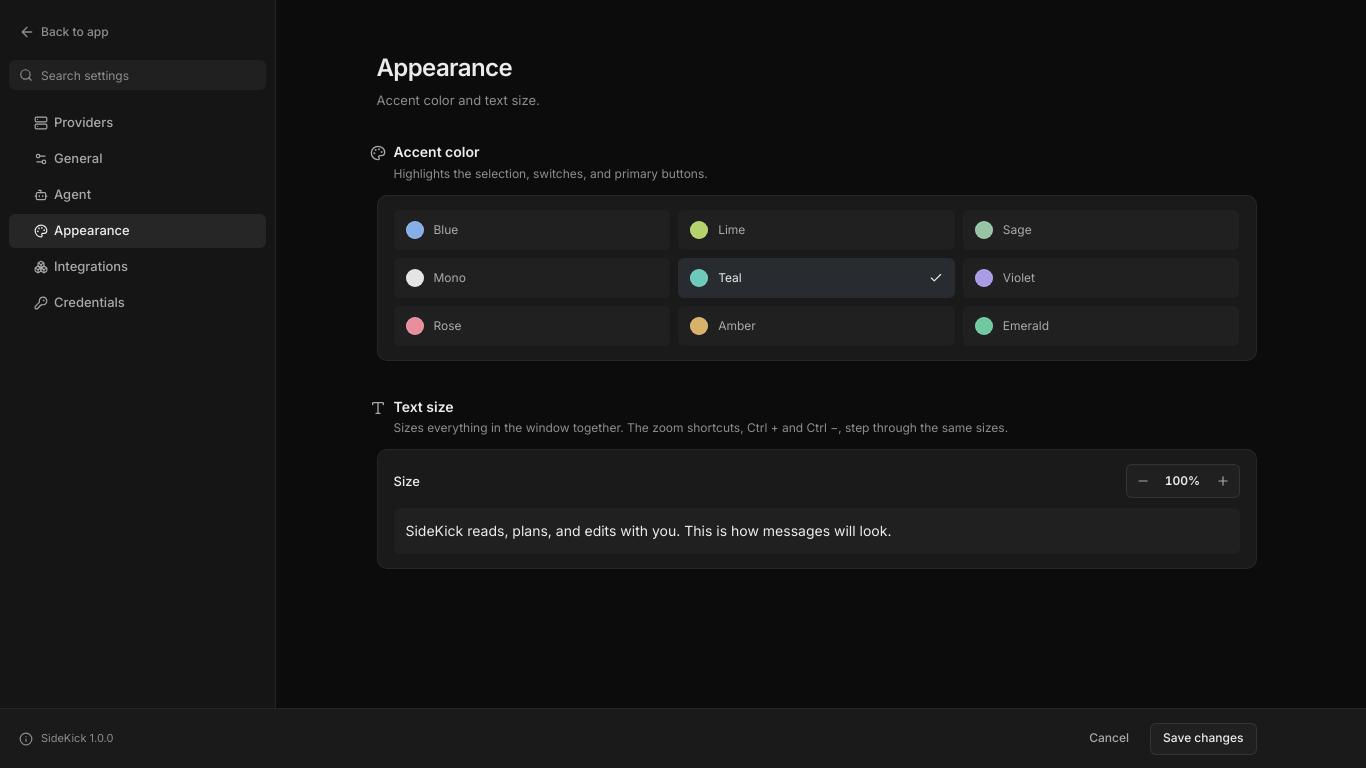
Test: opens Integrations and explains an invalid enabled connector instead of saving
Step 1. Click the button "Save changes" → (1203, 738), box [1150,722,1256,754]
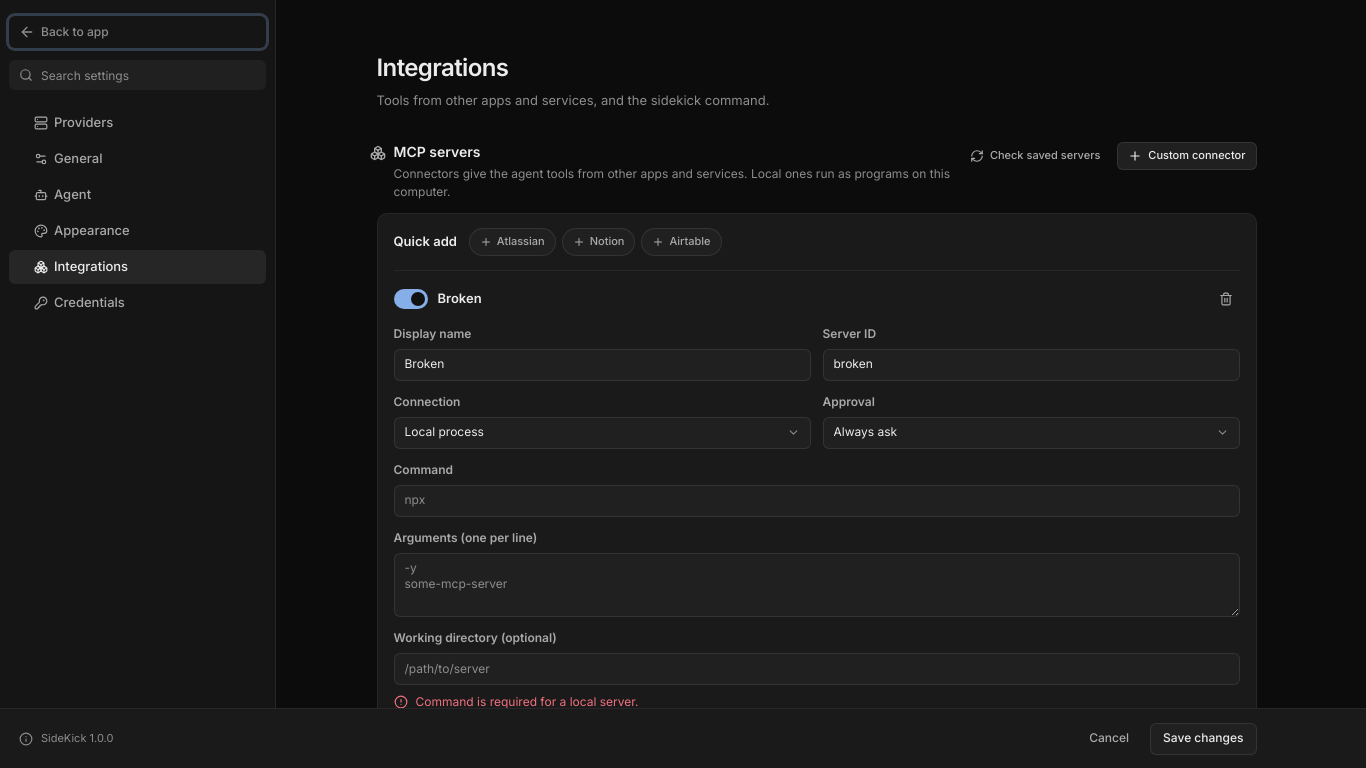
Check: the heading "Integrations" is shown, box [376,53,508,82]
